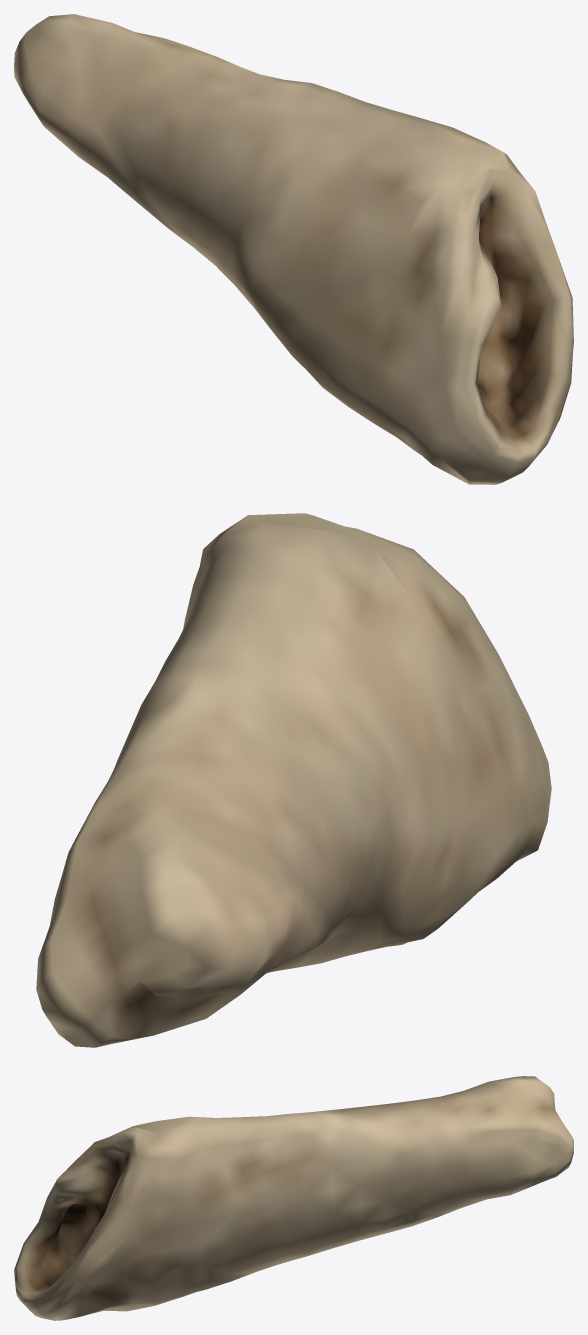
Rendered from Lower_Incisor.glb.
3 renders of one model, top to bottom at view 1: azimuth 30°, elevation 25°; view 2: azimuth 150°, elevation 25°; view 3: azimuth 270°, elevation 25°, orthographic. The views are drawn at different scales.
Parts seen in each view (by area): view 1: Lower_Incisor.glb; view 2: Lower_Incisor.glb; view 3: Lower_Incisor.glb.
Part boxes in pixels (x1,y1,x2,y2): Lower_Incisor.glb: (14,14,573,484); Lower_Incisor.glb: (36,513,551,1047); Lower_Incisor.glb: (14,1076,573,1320).
Size of the model in its own units: 0.0154 by 0.0148 by 0.0365.
Materials: 1 (1 with a texture image).
